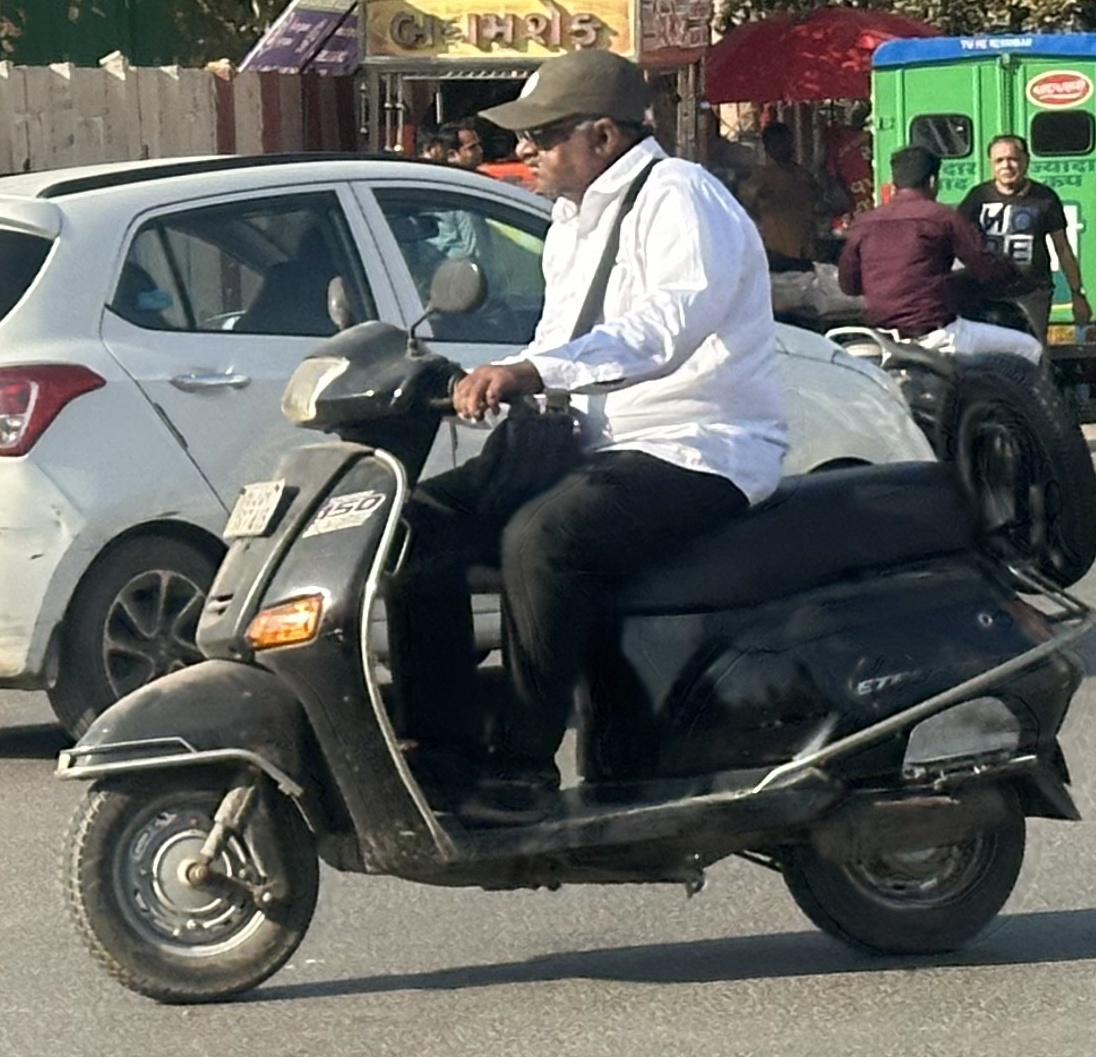BikeWithRider: (38, 41, 1091, 1010), (817, 138, 1061, 460)
NoHelmet: (491, 46, 678, 198), (876, 138, 947, 212)
